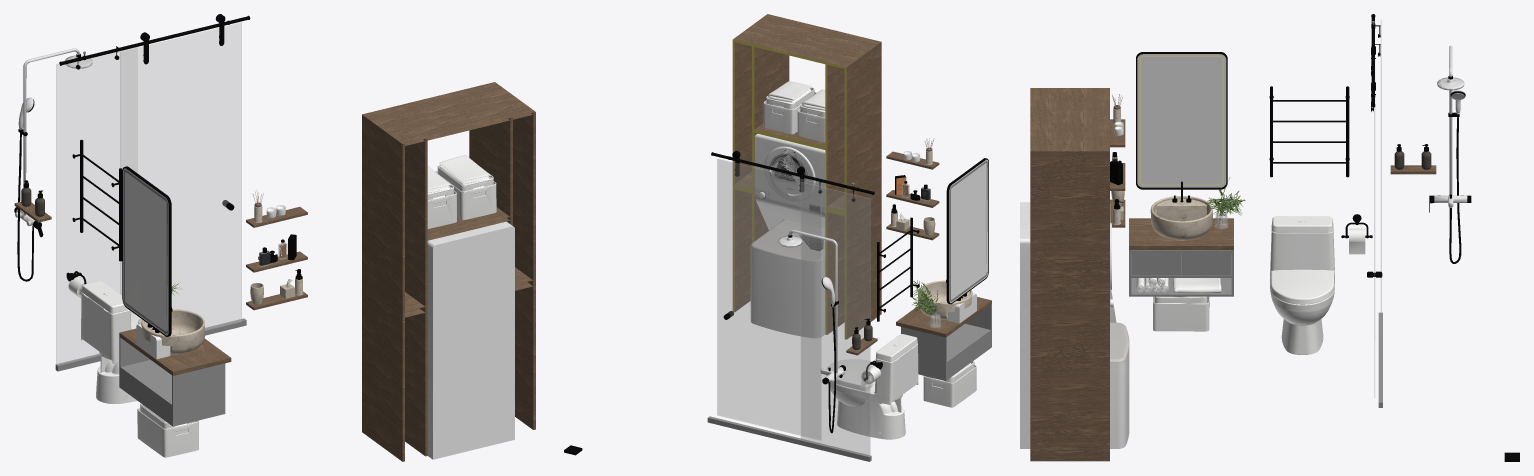
Rendered from apartamento-banheiro.glb.
The picture shows the model from 3 angles, left to right: view 1: azimuth 30°, elevation 25°; view 2: azimuth 150°, elevation 25°; view 3: azimuth 270°, elevation 25°; orthographic projection. The views are drawn at different scales.
Parts seen in each view (by area): view 1: BathroomFurnitures, BathroomWashing, Toilet, BathroomWashing.001, BathroomFurnitures.001; view 2: BathroomFurnitures, BathroomWashing, Toilet, BathroomWashing.001, BathroomFurnitures.001; view 3: BathroomWashing, BathroomFurnitures, Toilet, BathroomFurnitures.001.
Boxes of the visible parts, box(x1,y1,x2,y2) form: BathroomFurnitures: box(14, 14, 307, 426); BathroomWashing: box(362, 82, 535, 461); Toilet: box(81, 281, 141, 403); BathroomWashing.001: box(427, 155, 496, 228); BathroomFurnitures.001: box(137, 403, 198, 457); BathroomFurnitures: box(564, 138, 991, 461); BathroomWashing: box(732, 14, 881, 339); Toilet: box(826, 334, 918, 439); BathroomWashing.001: box(763, 81, 825, 142); BathroomFurnitures.001: box(923, 361, 976, 407); BathroomWashing: box(1020, 88, 1129, 461); BathroomFurnitures: box(1110, 14, 1519, 461); Toilet: box(1270, 216, 1334, 354); BathroomFurnitures.001: box(1153, 296, 1209, 331).
Size of the model in its own units: 3.17 by 3.16 by 4.48.
Materials: 18 (8 with a texture image).
